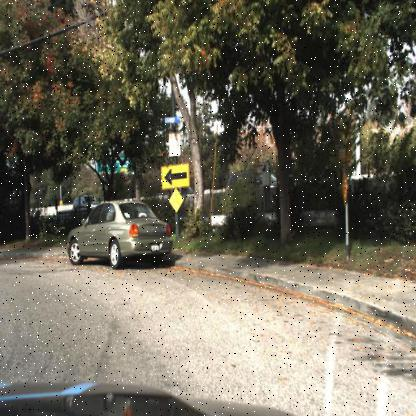car: (60, 195, 180, 271), (71, 190, 102, 210), (169, 182, 197, 198)
